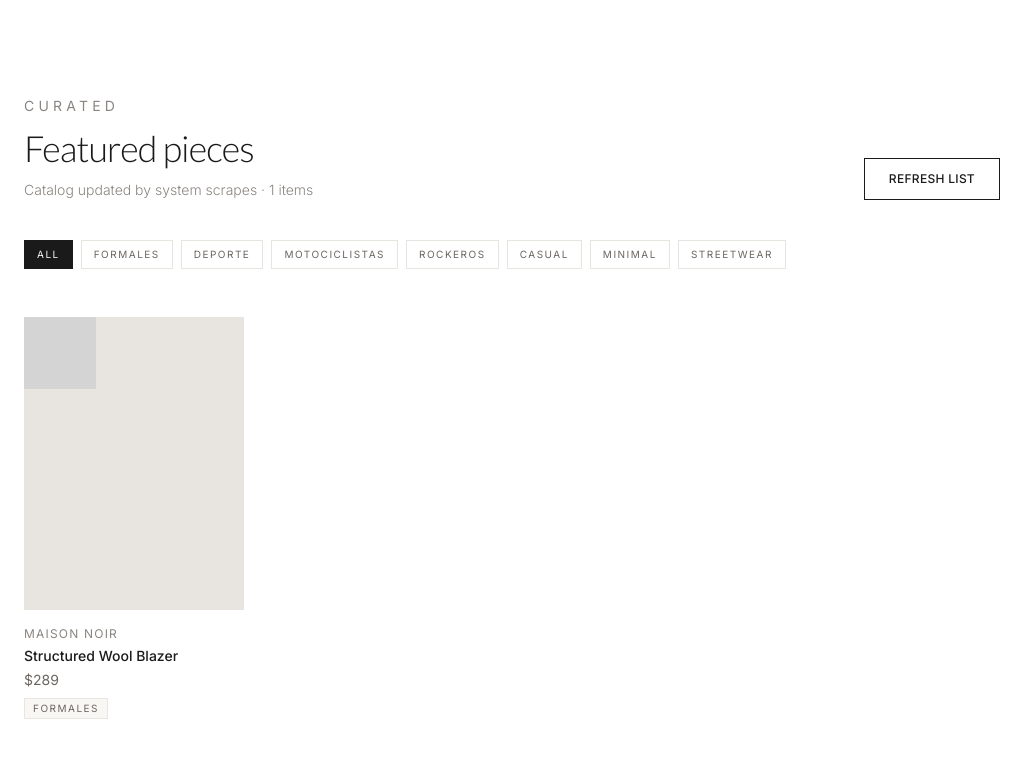
Test: CatalogGrid › filters by style when a chip is selected
Expected: the heading "Structured Wool Blazer" is shown, [24,647,178,664]
Click the button "Formales".
click(127, 254)  # box [81,240,173,269]
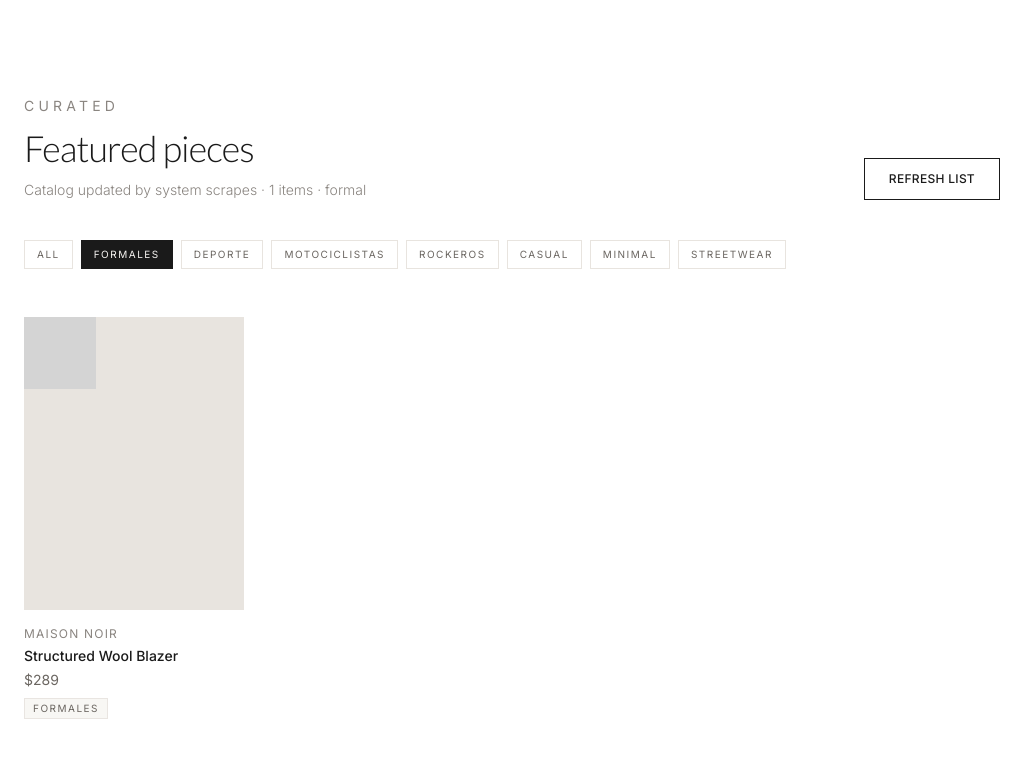
Result: the text "Catalog updated by system scrapes · 1 items · formal" is shown at [24,180,366,200]
